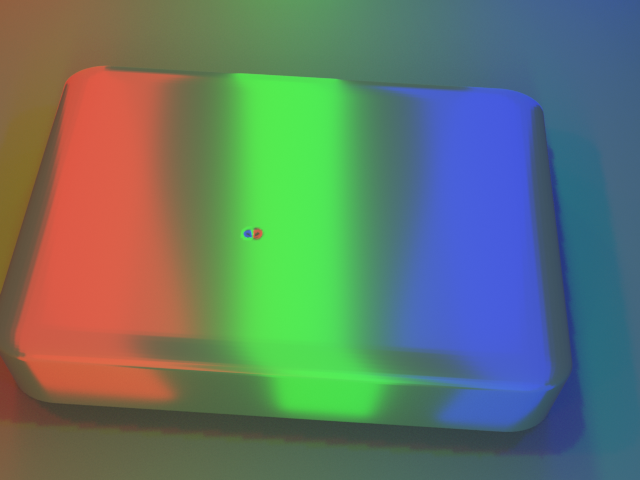dent: (224, 216, 267, 253)
